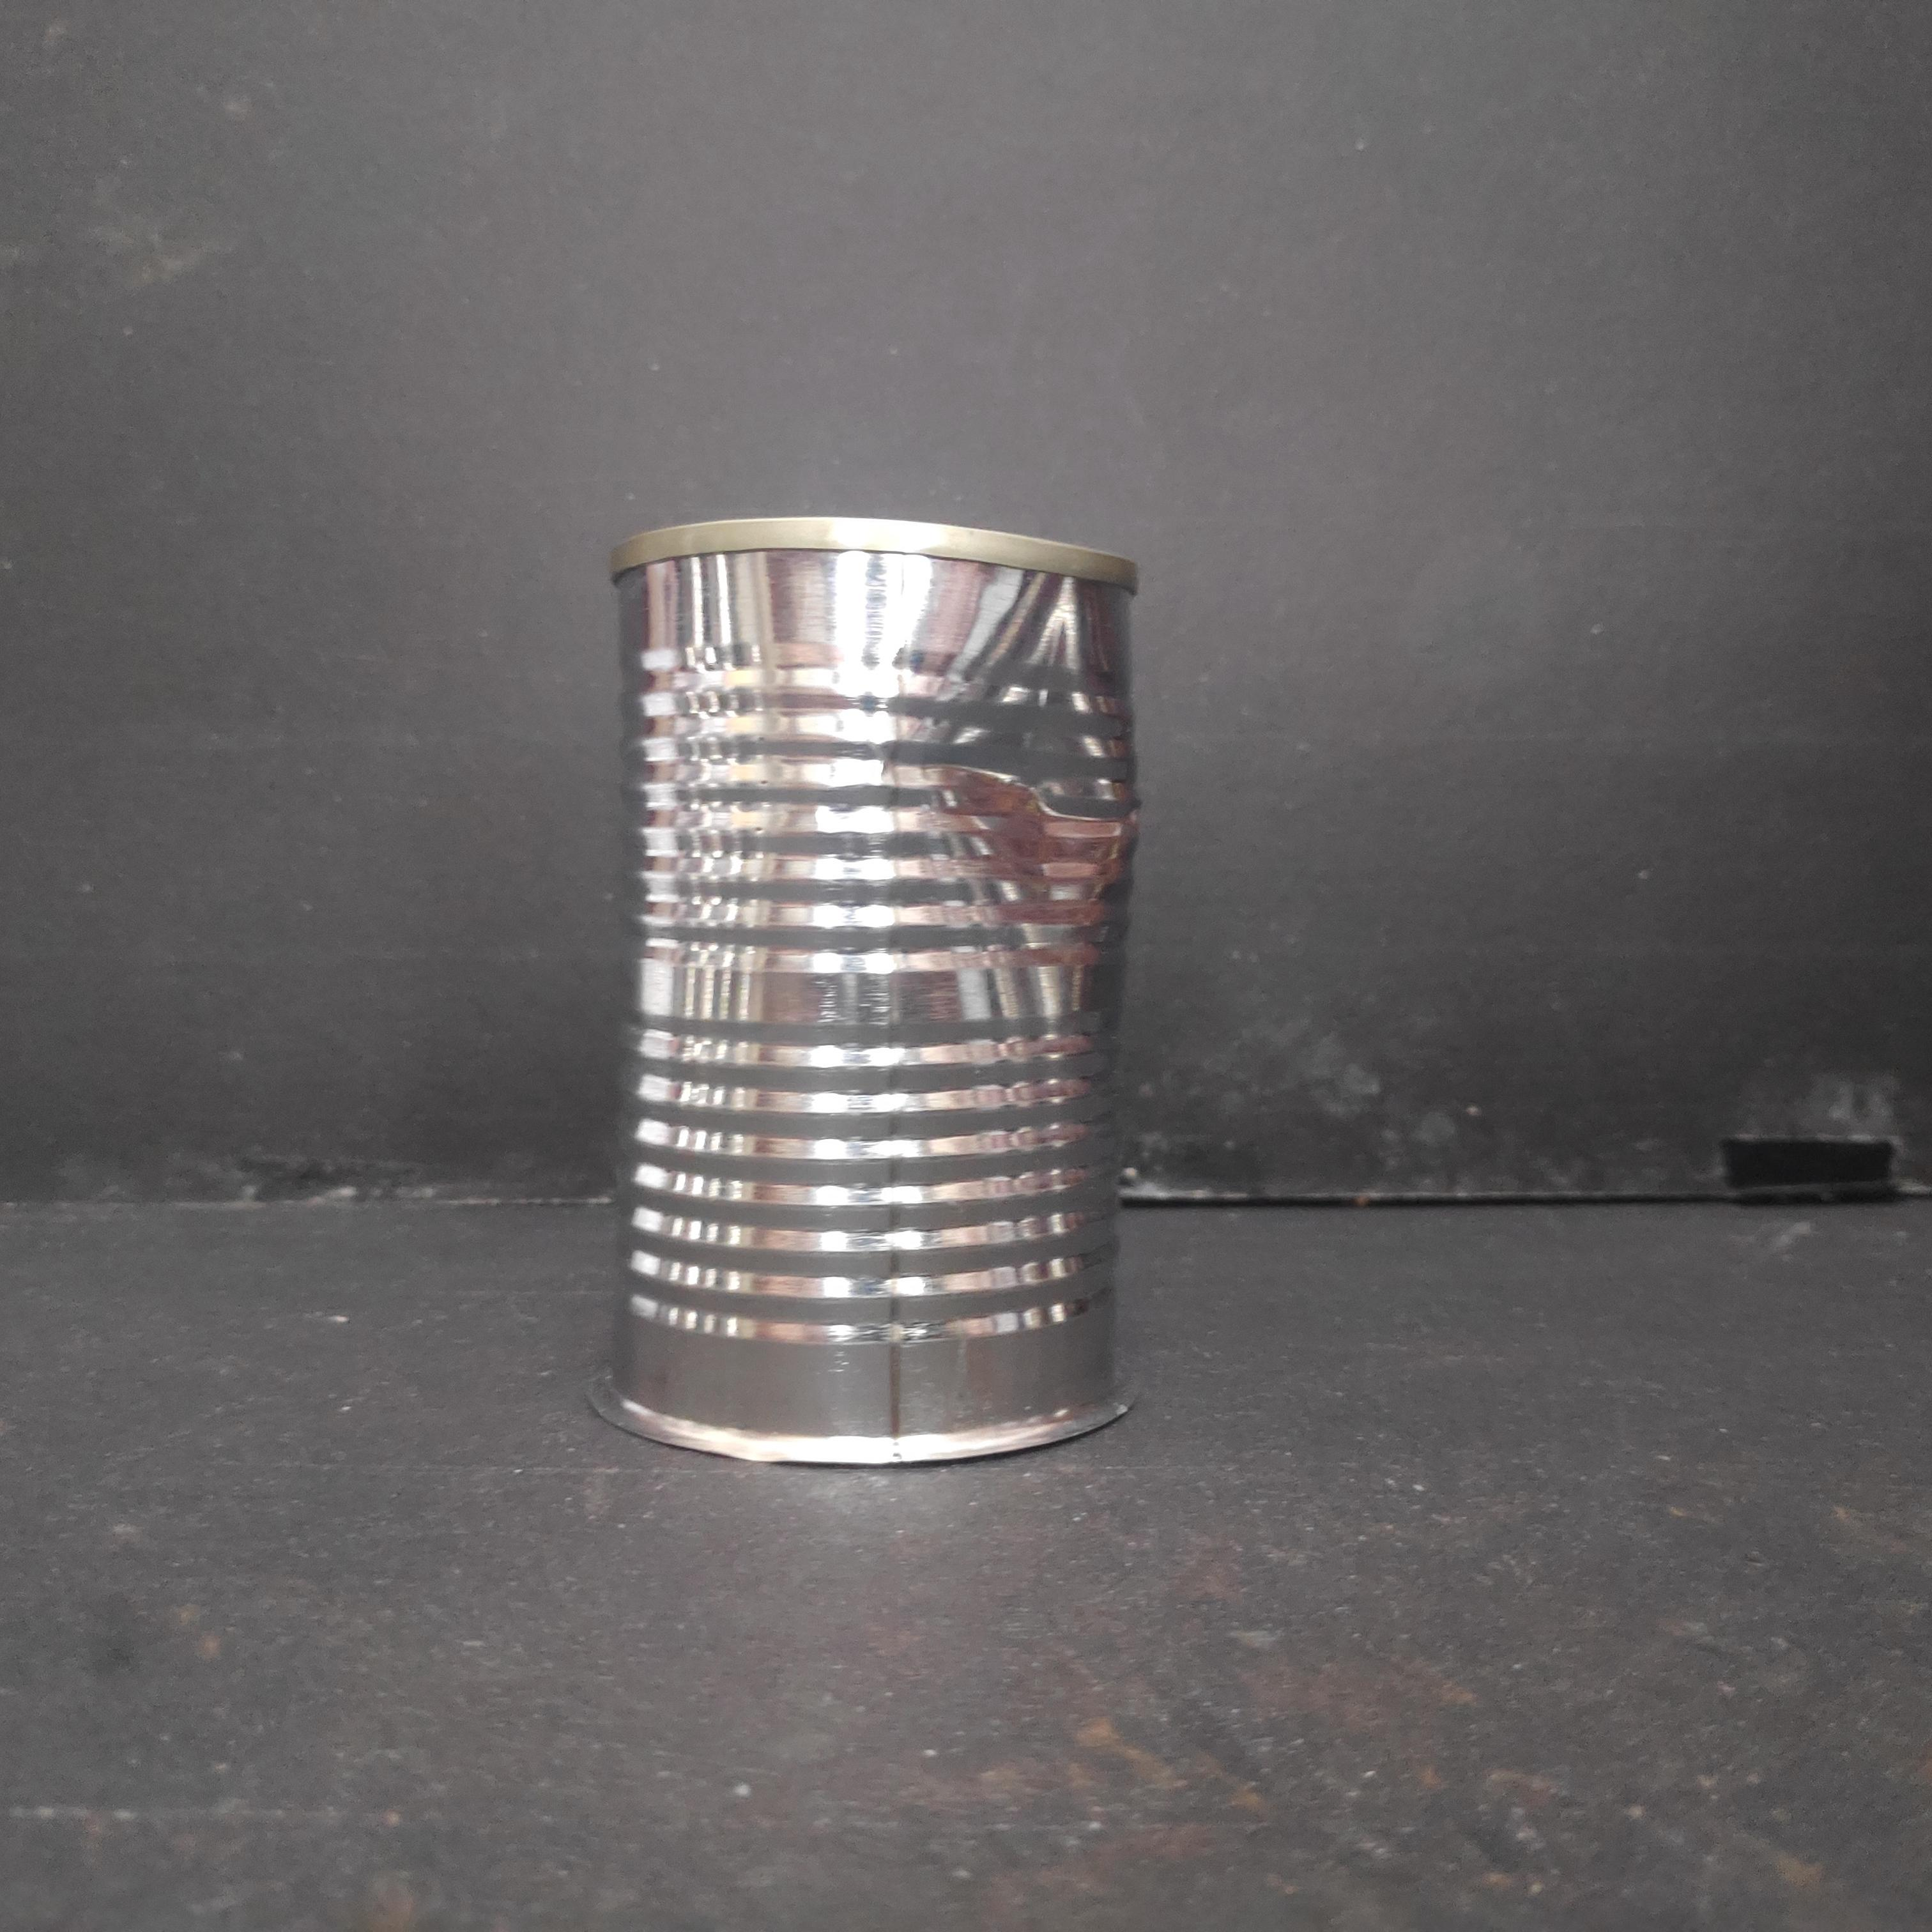Minor Defect: (593, 506, 1154, 1474)
